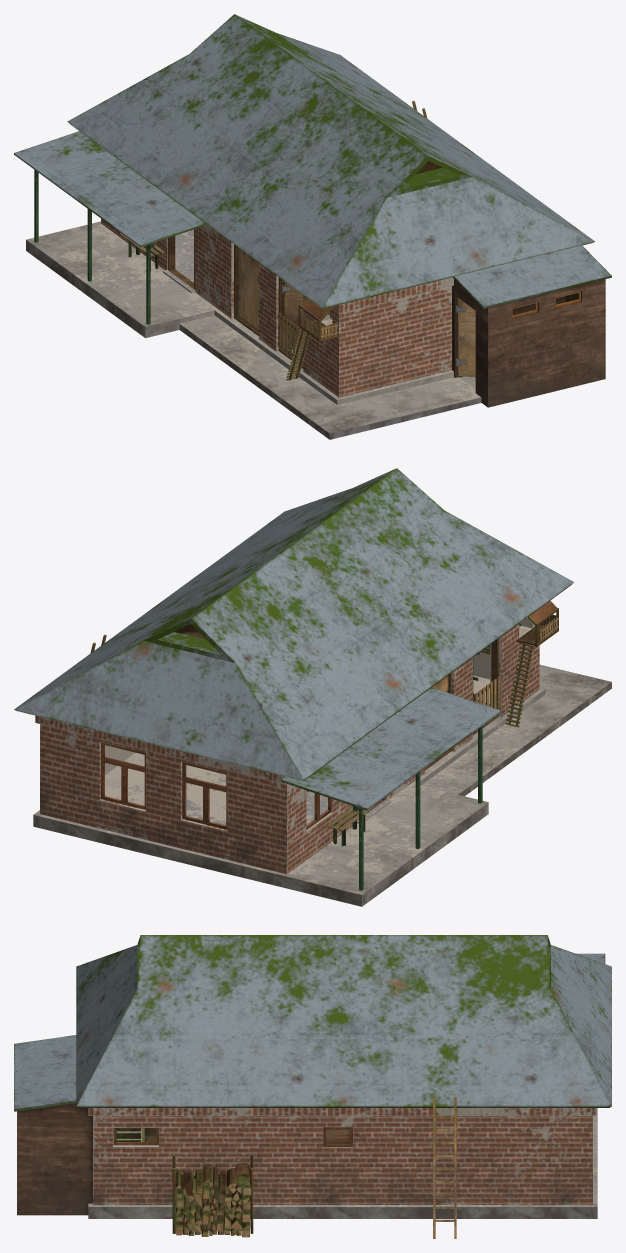
File: rural_brick_house_with_barn_and_chicken_coop.glb
3 views of the same model, one above another, from view 1: azimuth 30°, elevation 25°; view 2: azimuth 150°, elevation 25°; view 3: azimuth 270°, elevation 25° (orthographic). The views are drawn at different scales.
Visible parts, largest first — view 1: roof_74, Base_73, barn_76, roof 2_75, roof 3_77, Door2_27, Door4_35, construction1_23, fence_30, Door3_28, the chicken coop4_55, Jamb1_36; view 2: roof_74, Base_73, roof 2_75, construction1_23, Wibdow1_50, Window2_51, ladder2_56, the chicken coop4_55, fence_30; view 3: roof_74, Base_73, barn_76, firewood_48, roof 3_77, ladder_49, sticks1_19.
Part boxes in pixels (x1,y1,x2,y2): roof_74: (67, 14, 594, 308); Base_73: (26, 218, 481, 439); barn_76: (452, 279, 605, 407); roof 2_75: (14, 131, 206, 247); roof 3_77: (452, 245, 611, 308); Door2_27: (237, 247, 258, 331); Door4_35: (458, 298, 475, 377); construction1_23: (34, 170, 154, 324); fence_30: (278, 313, 302, 365); Door3_28: (284, 281, 303, 349); the chicken coop4_55: (298, 298, 338, 341); Jamb1_36: (167, 229, 195, 289); roof_74: (14, 468, 573, 780); Base_73: (33, 617, 611, 906); roof 2_75: (281, 687, 500, 810); construction1_23: (352, 726, 482, 890); Wibdow1_50: (182, 762, 227, 829); Window2_51: (101, 742, 145, 809); ladder2_56: (505, 642, 534, 727); the chicken coop4_55: (517, 600, 558, 646); fence_30: (475, 676, 500, 731); roof_74: (76, 935, 611, 1107); Base_73: (88, 1108, 597, 1218); barn_76: (17, 1103, 92, 1215); firewood_48: (175, 1163, 251, 1237); roof 3_77: (14, 1035, 76, 1111); ladder_49: (433, 1096, 456, 1238); sticks1_19: (172, 1168, 253, 1233).
Size of the model in its own units: 4.66 by 2.59 by 6.38.
Materials: 3 (3 with a texture image).
